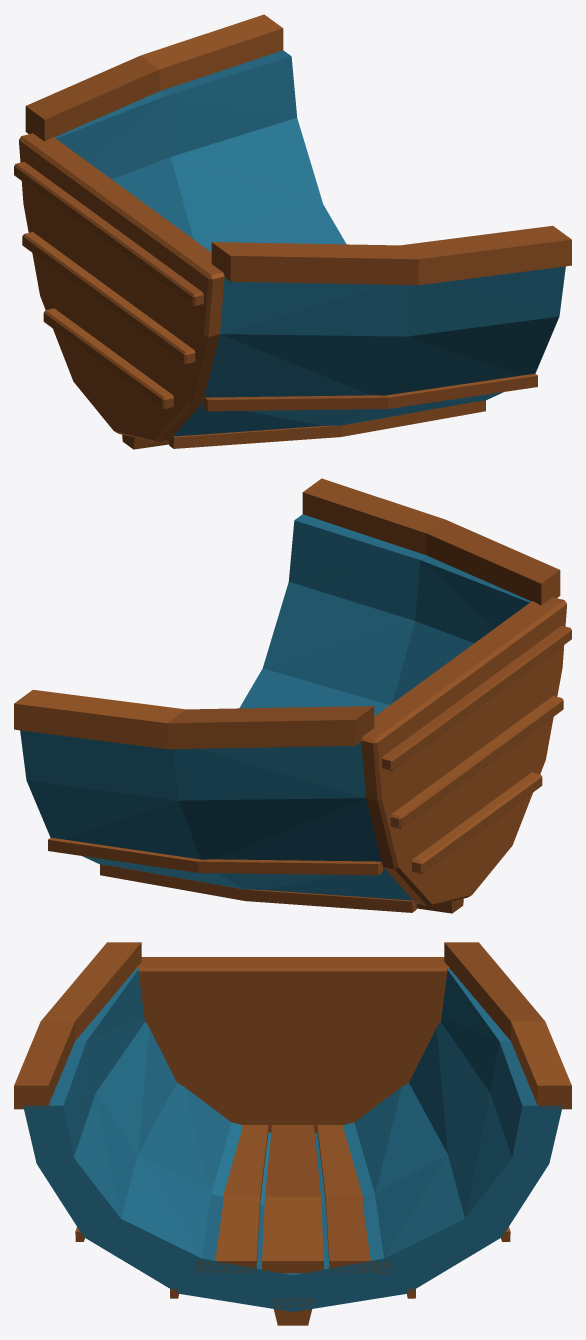
The model's file is EM_BoatStern.fbx.
3 renders of one model, top to bottom at view 1: azimuth 30°, elevation 25°; view 2: azimuth 150°, elevation 25°; view 3: azimuth 270°, elevation 25°, orthographic. The views are drawn at different scales.
Parts seen in each view (by area): view 1: EM_BoatStern; view 2: EM_BoatStern; view 3: EM_BoatStern.
Part boxes in pixels (<box>): EM_BoatStern: <box>14,14,571,449</box>; EM_BoatStern: <box>14,478,571,913</box>; EM_BoatStern: <box>14,942,571,1325</box>.
Size of the model in its own units: 0.9775 by 0.835 by 1.65.
